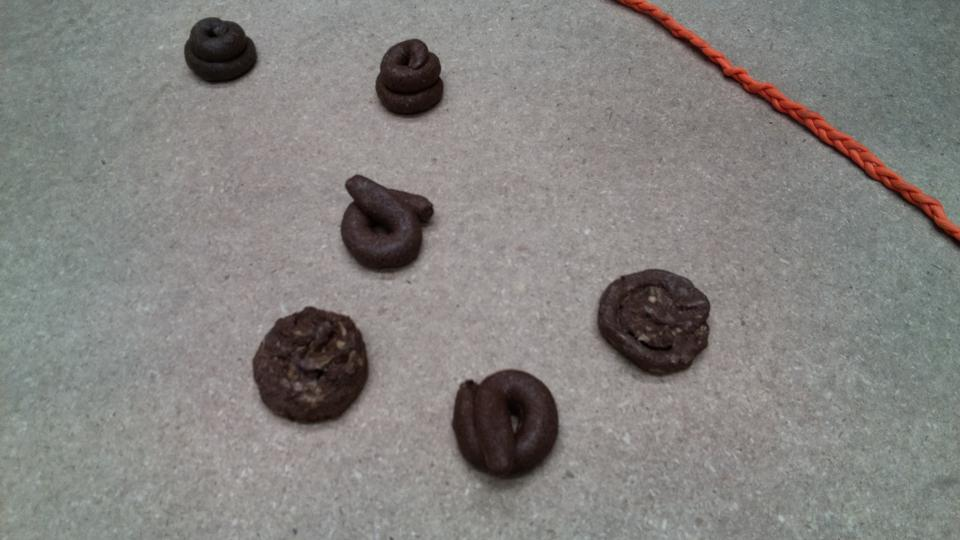poop: (247, 301, 374, 428), (591, 266, 716, 382), (451, 367, 563, 484), (335, 171, 438, 275), (373, 37, 450, 123), (181, 13, 261, 87)
rope: (634, 1, 960, 227)
